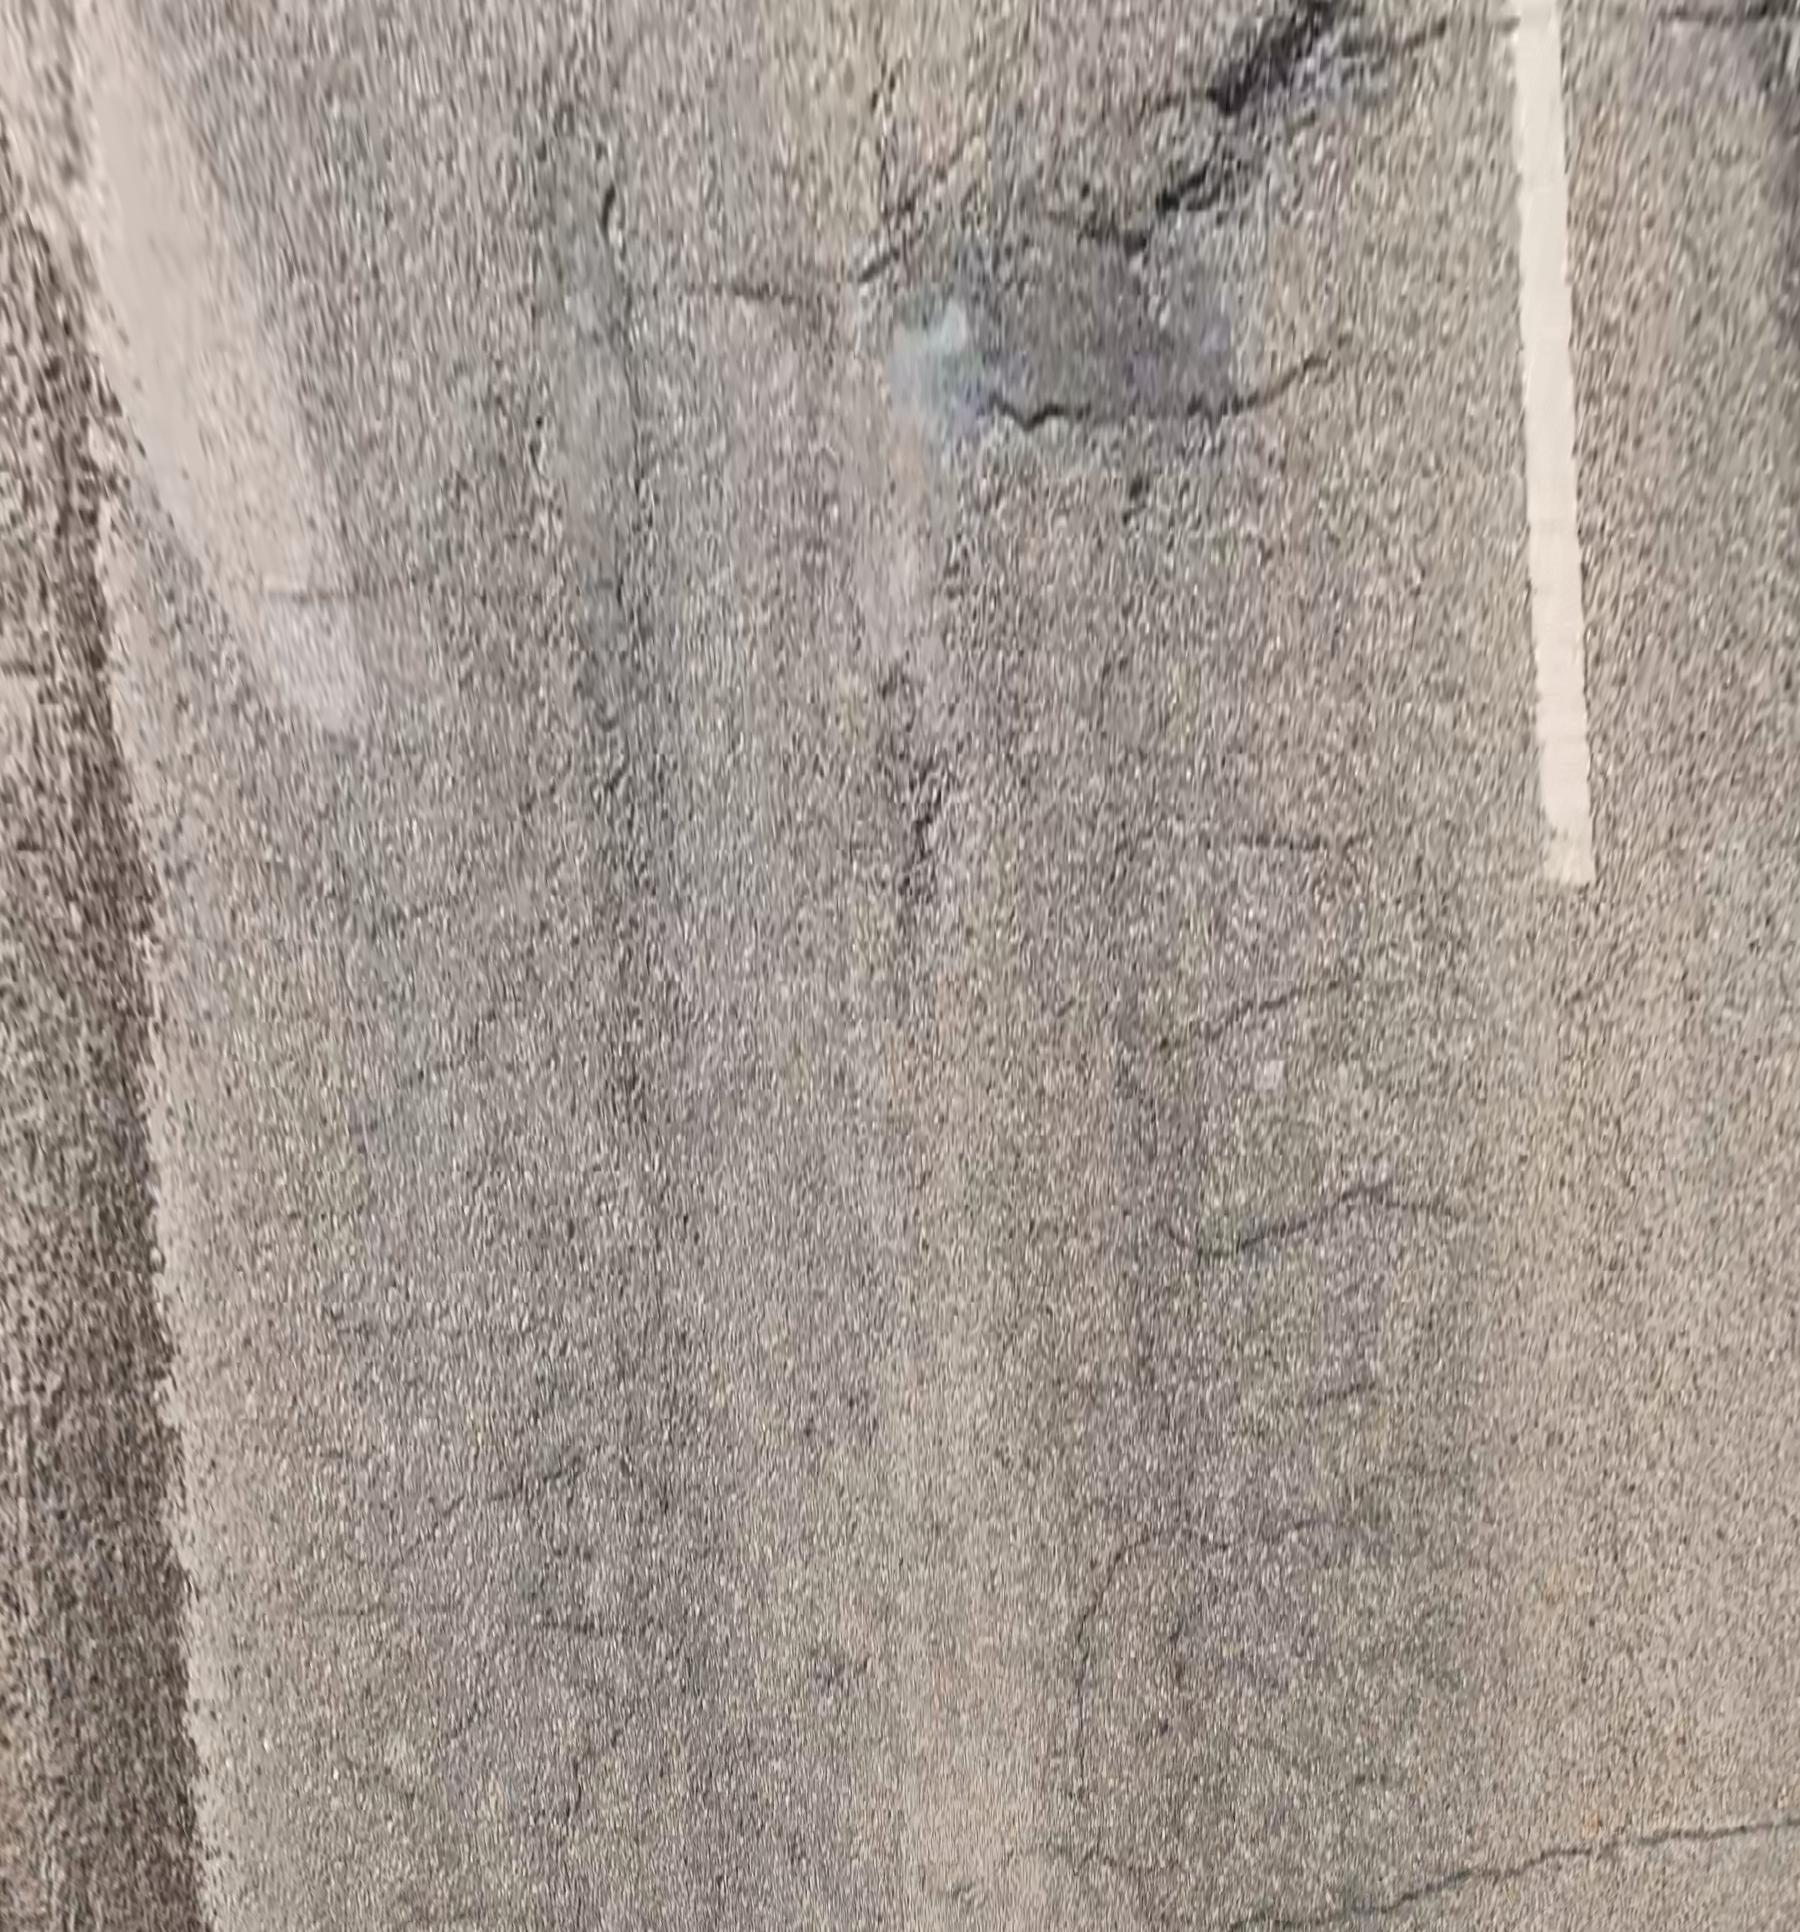pothole_patch_poor: (893, 223, 1233, 464)
